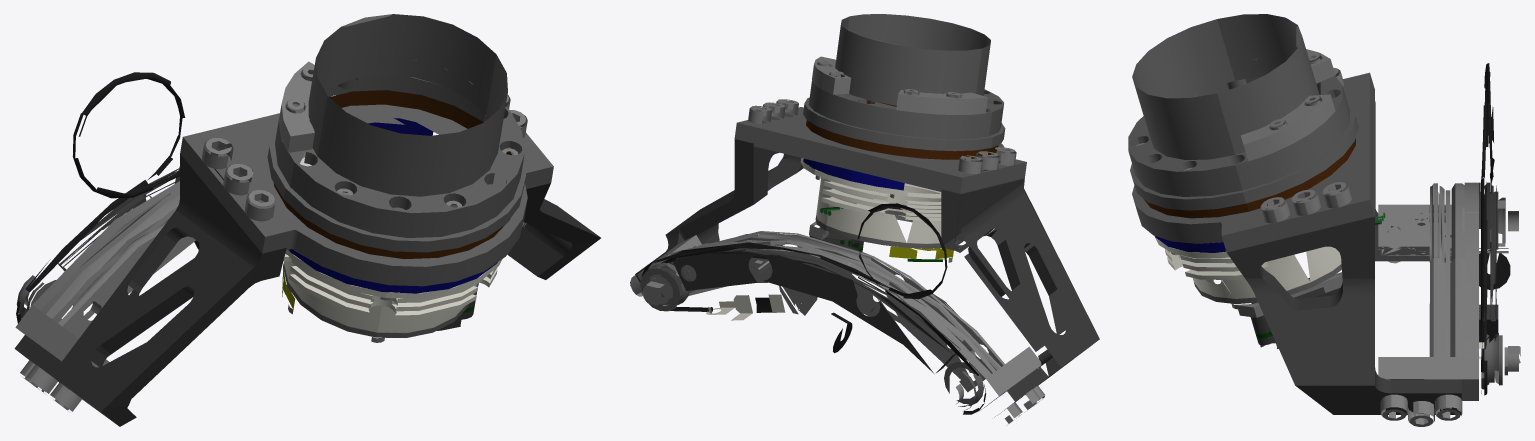
The model's file is armr_sho1_joint.obj.
3 renders of one model, left to right at view 1: azimuth 30°, elevation 25°; view 2: azimuth 150°, elevation 25°; view 3: azimuth 270°, elevation 25°, orthographic. The views are drawn at different scales.
Size of the model in its own units: 0.165 by 0.1156 by 0.1227.
Materials: 1 (1 with a texture image).
